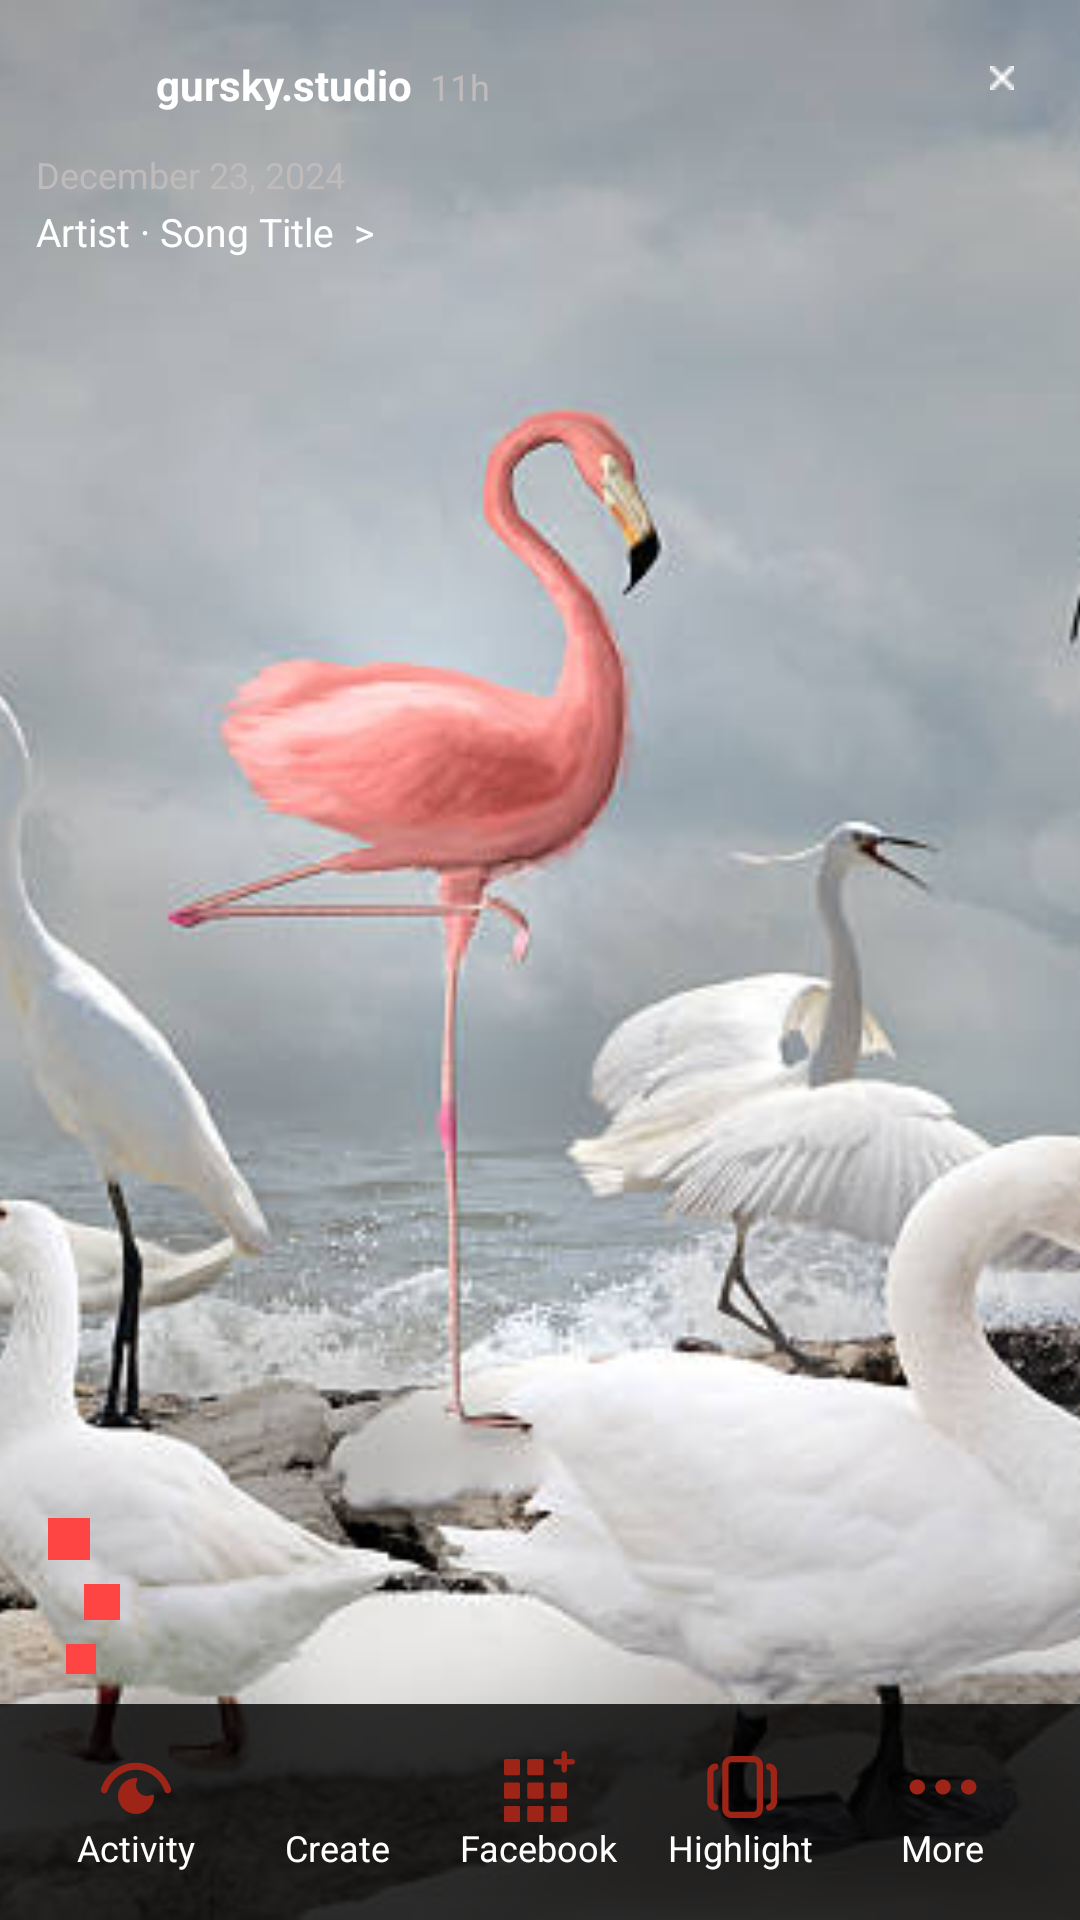

Locate icon controls on the screen. Image size 1080*1920, boxes as [left=x1, top=y1, right=x2, bottom=y2].
close: [left=990, top=66, right=1014, bottom=90]
